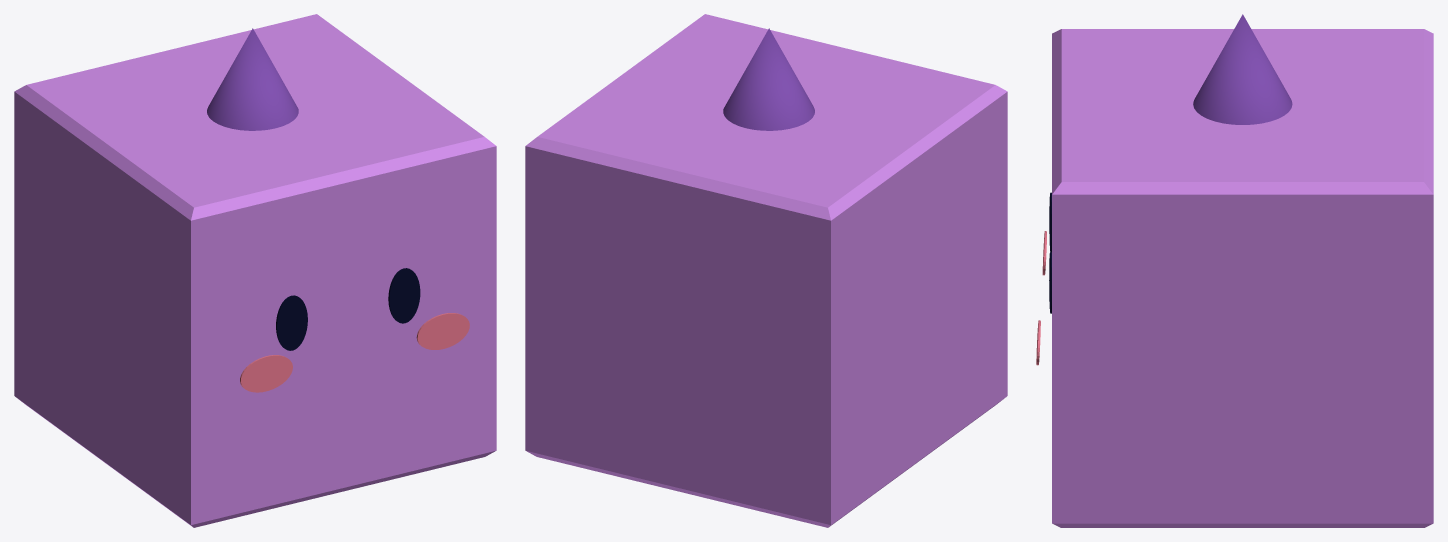
3 renders of one model, left to right at view 1: azimuth 30°, elevation 25°; view 2: azimuth 150°, elevation 25°; view 3: azimuth 270°, elevation 25°, orthographic. The views are drawn at different scales.
Parts seen in each view (by area): view 1: Cube, Cone, Círculo.004, Círculo.001, Círculo.003, Círculo.002; view 2: Cube, Cone; view 3: Cube, Cone.
Part boxes in pixels (x1,y1,x2,y2): Cube: [14, 14, 496, 527]; Cone: [207, 28, 298, 130]; Círculo.004: [240, 355, 292, 392]; Círculo.001: [416, 313, 469, 349]; Círculo.003: [388, 268, 420, 323]; Círculo.002: [276, 295, 307, 350]; Cube: [525, 14, 1007, 527]; Cone: [723, 28, 814, 130]; Cube: [1052, 29, 1433, 527]; Cone: [1193, 14, 1292, 124].
Size of the model in its own units: 63.58 by 80.16 by 66.19.
